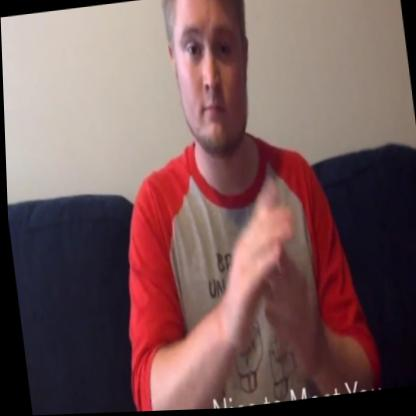NiceToMeetYou: (194, 179, 334, 385)
